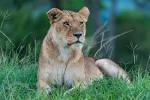lion: (34, 8, 127, 90)
